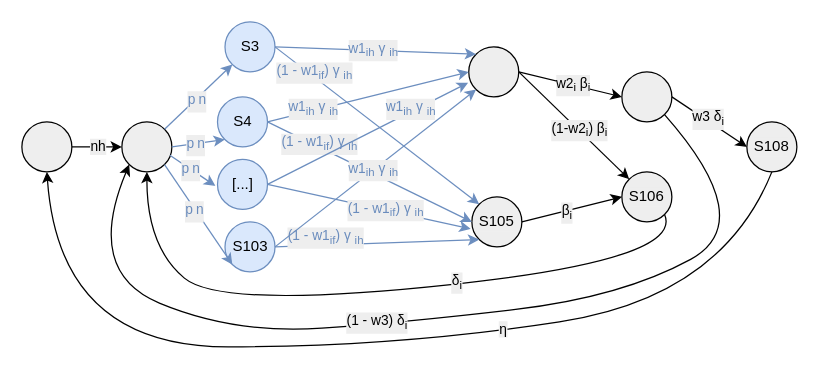
Some shapes in this 819 by 369 pixel diagram are drawn without their labels. Here are the shapes that lost their labels. From the top down, the centre of each, then its label:
the point at 493,71: S104
the point at 646,96: S107
the point at 46,146: S1
the point at 146,146: S2
